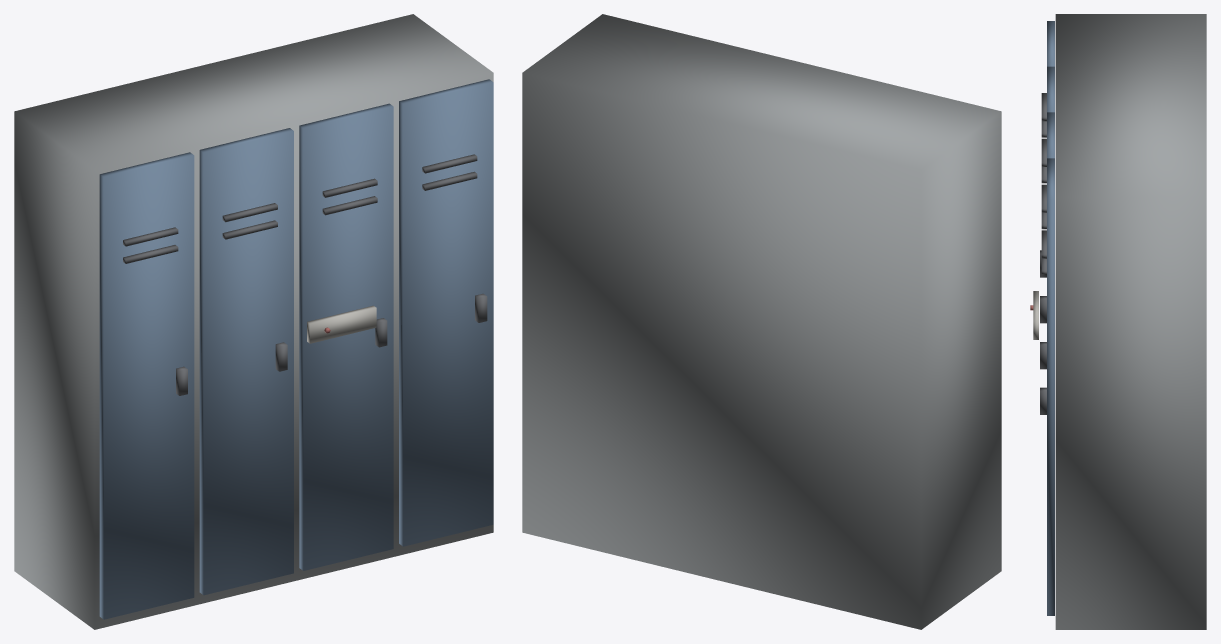
The model's file is property_locker_bank__deep.glb.
The picture shows the model from 3 angles, left to right: view 1: azimuth 30°, elevation 25°; view 2: azimuth 150°, elevation 25°; view 3: azimuth 270°, elevation 25°; orthographic projection. The views are drawn at different scales.
Parts seen in each view (by area): view 1: world; view 2: world; view 3: world.
Part boxes in pixels (x1,y1,x2,y2): world: (14,14,493,629); world: (522,14,1001,629); world: (1030,14,1206,629).
Size of the model in its own units: 1.68 by 1.85 by 0.6844.
